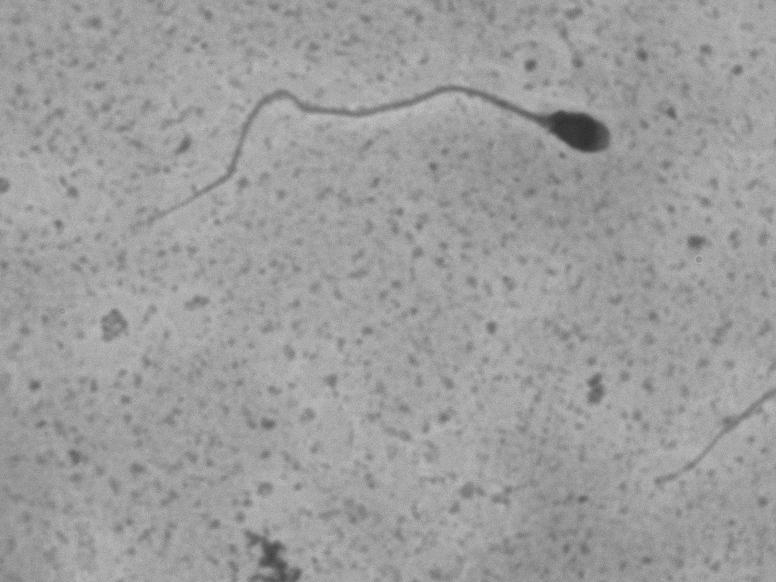Abnormal: (117, 69, 652, 243)
